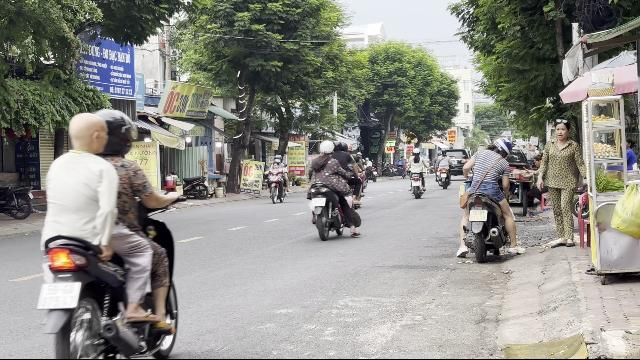helmet: (93, 108, 137, 158), (490, 138, 510, 158), (318, 140, 334, 154)
licenseplate: (36, 282, 82, 308), (468, 210, 488, 221), (312, 198, 326, 206)
motorcyclist: (31, 108, 185, 356), (454, 130, 520, 262), (306, 139, 362, 239)
nohelmet: (66, 112, 108, 156)
